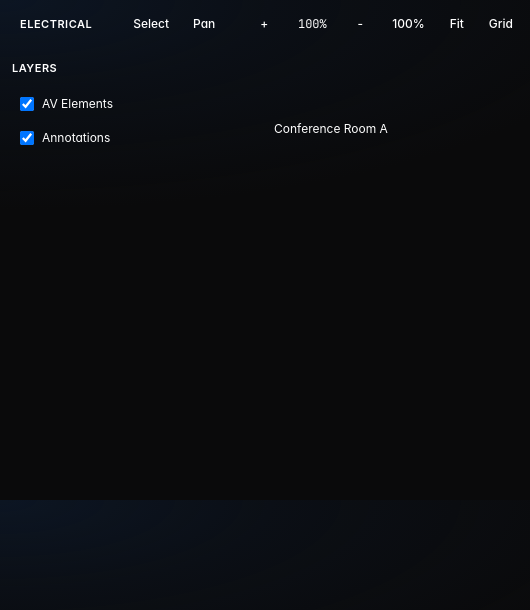
DrawingCanvas Component › Zoom Controls › zooms in when clicking zoom in button
Click the button named "zoom in" at (264, 24), box [248,8,280,40]
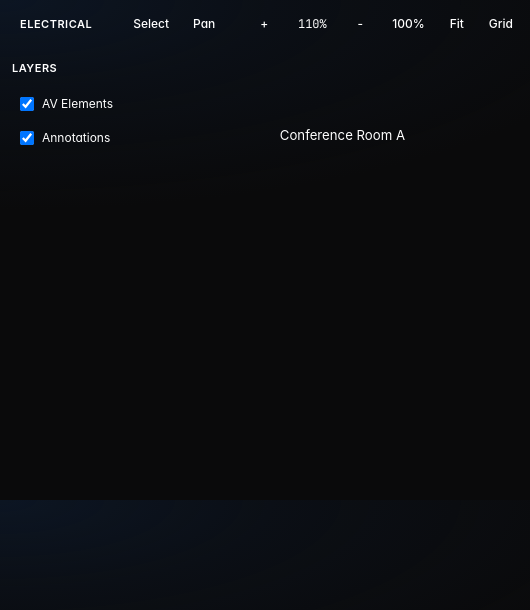
expect the text with test id "zoom-level" reads "110%": met, box [298,16,327,32]
